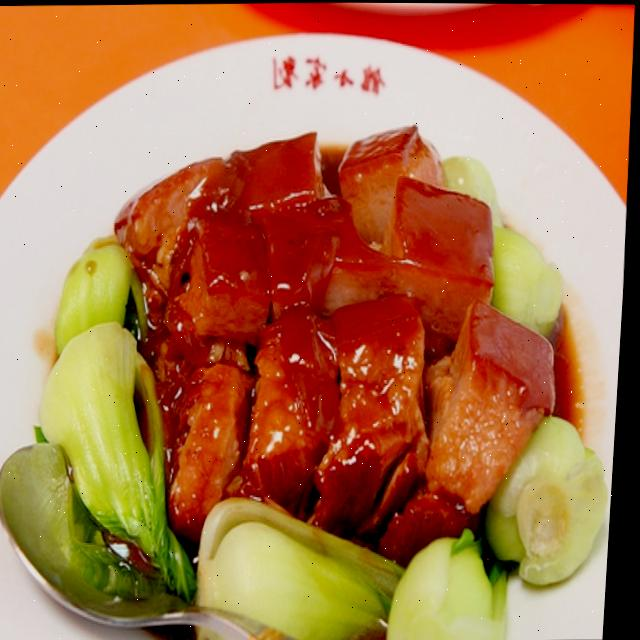牛肉菜式: (0, 45, 629, 640)
